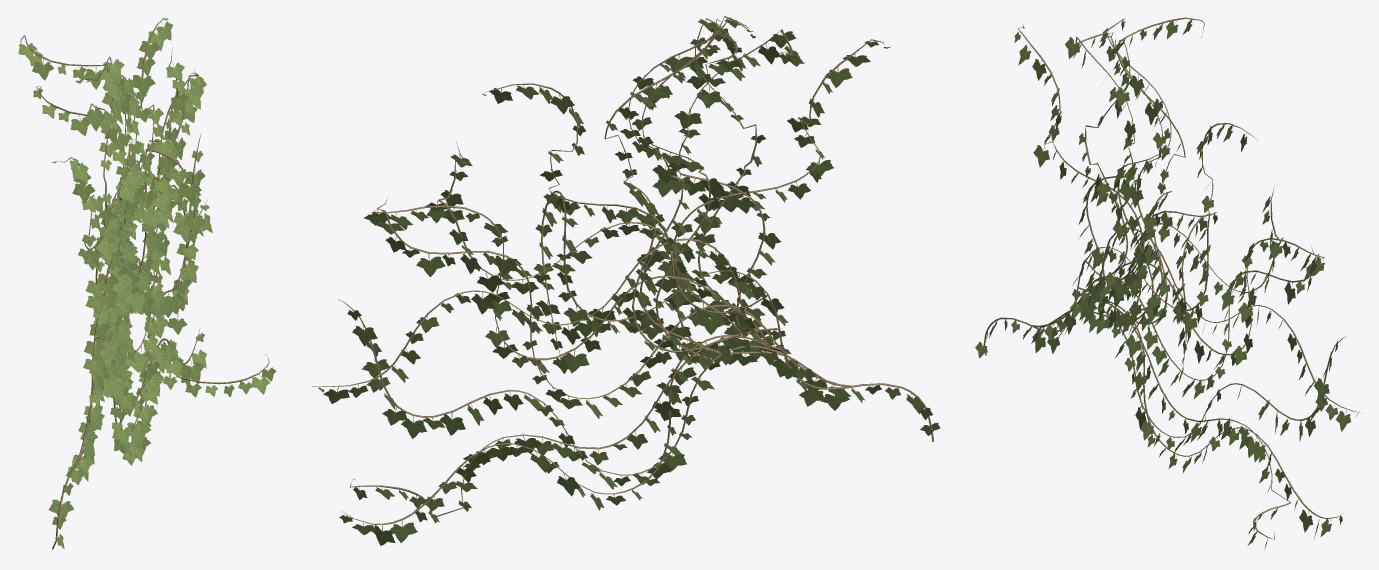
The model's file is ivy_02.fbx.
3 renders of one model, left to right at view 1: azimuth 30°, elevation 25°; view 2: azimuth 150°, elevation 25°; view 3: azimuth 270°, elevation 25°, orthographic. The views are drawn at different scales.
Parts seen in each view (by area): view 1: NewIvySnapshot_4; view 2: NewIvySnapshot_4; view 3: NewIvySnapshot_4.
Boxes of the visible parts, box(x1,y1,x2,y2) form: NewIvySnapshot_4: box(18, 17, 276, 549); NewIvySnapshot_4: box(312, 16, 940, 545); NewIvySnapshot_4: box(975, 17, 1361, 550).
Bounding box in the file's own units: 112 × 128 × 108.
